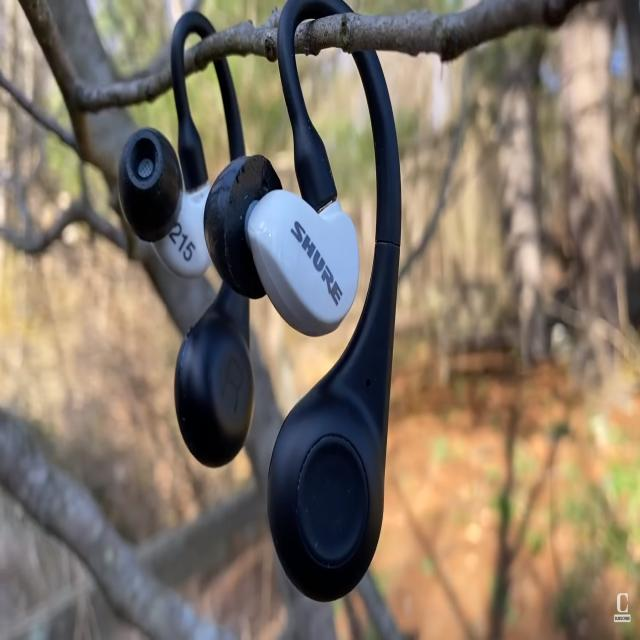airpods: (117, 0, 401, 602)
